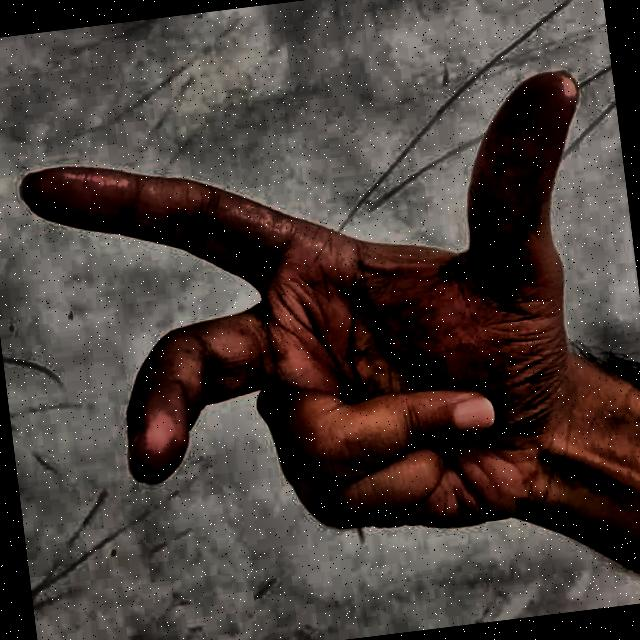Da: (0, 11, 640, 640)
